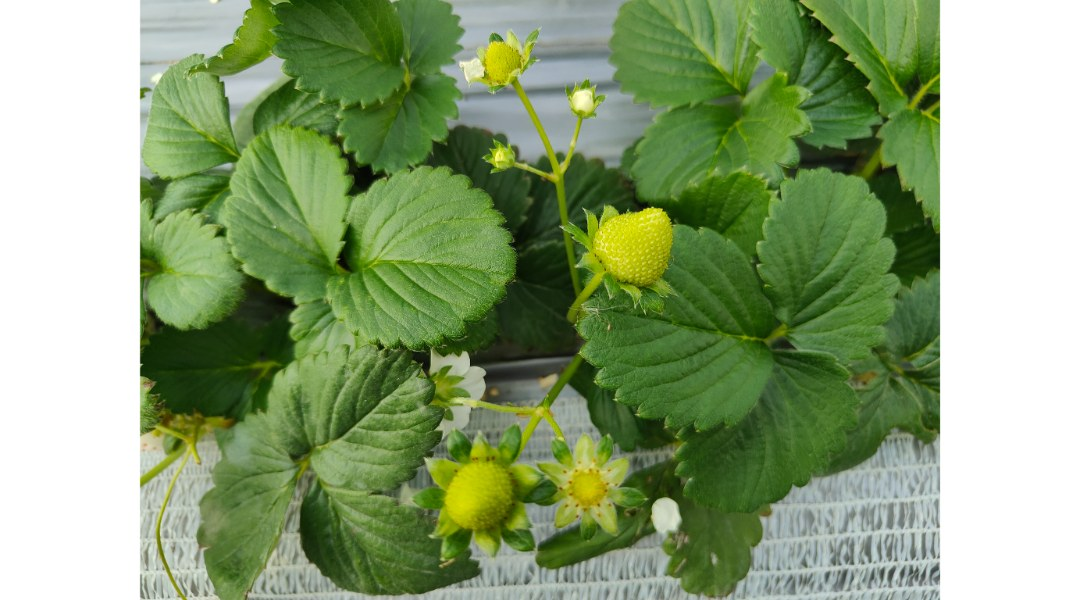berry: (419, 432, 540, 563), (572, 200, 675, 298), (535, 440, 633, 541), (469, 30, 535, 89), (478, 134, 525, 178), (564, 71, 601, 125)
flower: (417, 342, 492, 439)
strain: (512, 74, 561, 159), (542, 340, 601, 405), (550, 186, 577, 288)
